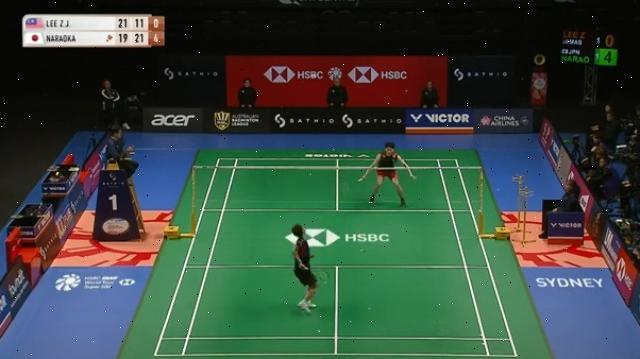Shuttlecock: (307, 70, 319, 82)
